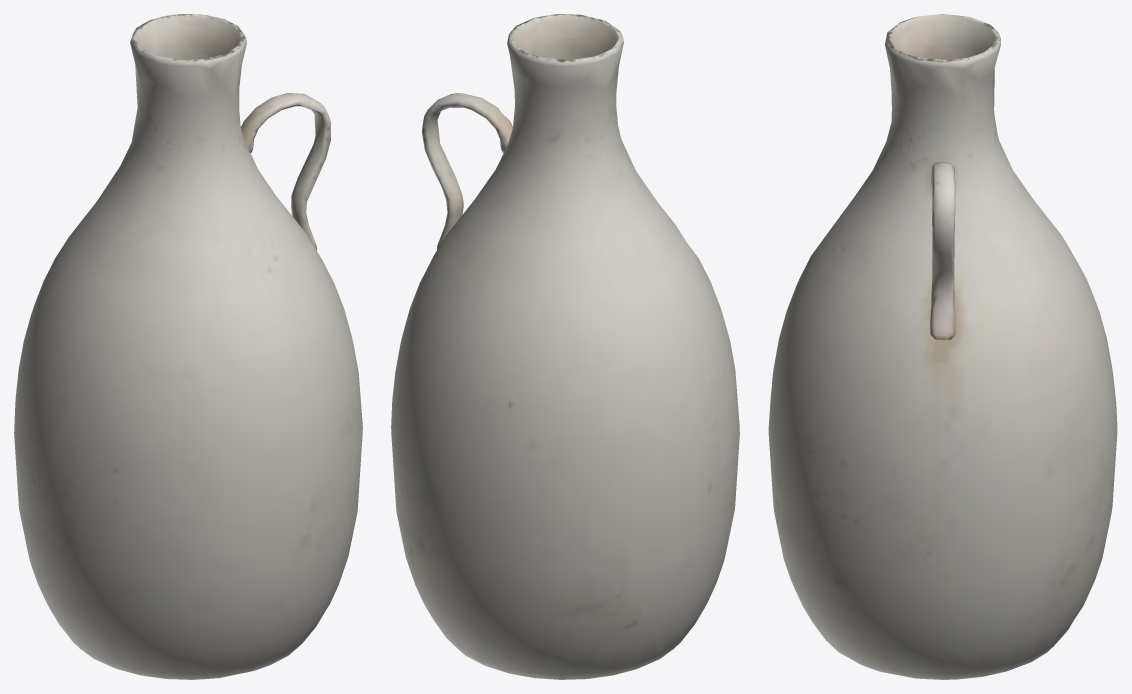
Rendered from vase_jug.glb.
The picture shows the model from 3 angles, left to right: view 1: azimuth 30°, elevation 25°; view 2: azimuth 150°, elevation 25°; view 3: azimuth 270°, elevation 25°; orthographic projection.
Parts seen in each view (by area): view 1: ceramic_vase_04; view 2: ceramic_vase_04; view 3: ceramic_vase_04.
Part boxes in pixels (x1=…): ceramic_vase_04: x1=14, y1=14, x2=362, y2=679; ceramic_vase_04: x1=391, y1=14, x2=739, y2=679; ceramic_vase_04: x1=768, y1=14, x2=1117, y2=679.
Bounding box in the file's own units: 0.1811 × 0.3419 × 0.1811.
1 material, 1 textured.
